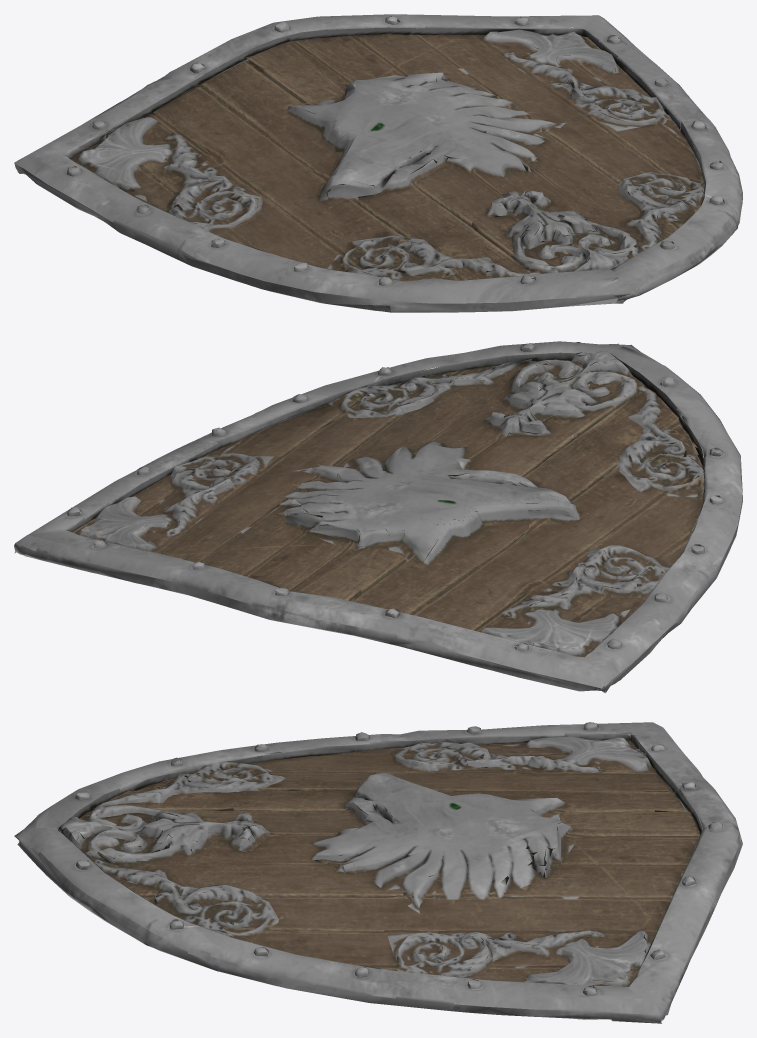
The model's file is wolf-shield.glb.
The picture shows the model from 3 angles, top to bottom: view 1: azimuth 30°, elevation 25°; view 2: azimuth 150°, elevation 25°; view 3: azimuth 270°, elevation 25°; orthographic projection.
Parts seen in each view (by area): view 1: PIECE_wolf-shield; view 2: PIECE_wolf-shield; view 3: PIECE_wolf-shield.
Part boxes in pixels (x1,y1,x2,y2): PIECE_wolf-shield: [14, 14, 742, 312]; PIECE_wolf-shield: [14, 341, 742, 693]; PIECE_wolf-shield: [14, 722, 742, 1023].
Size of the model in its own units: 1 by 0.0978 by 1.07.
1 material, 1 textured.
